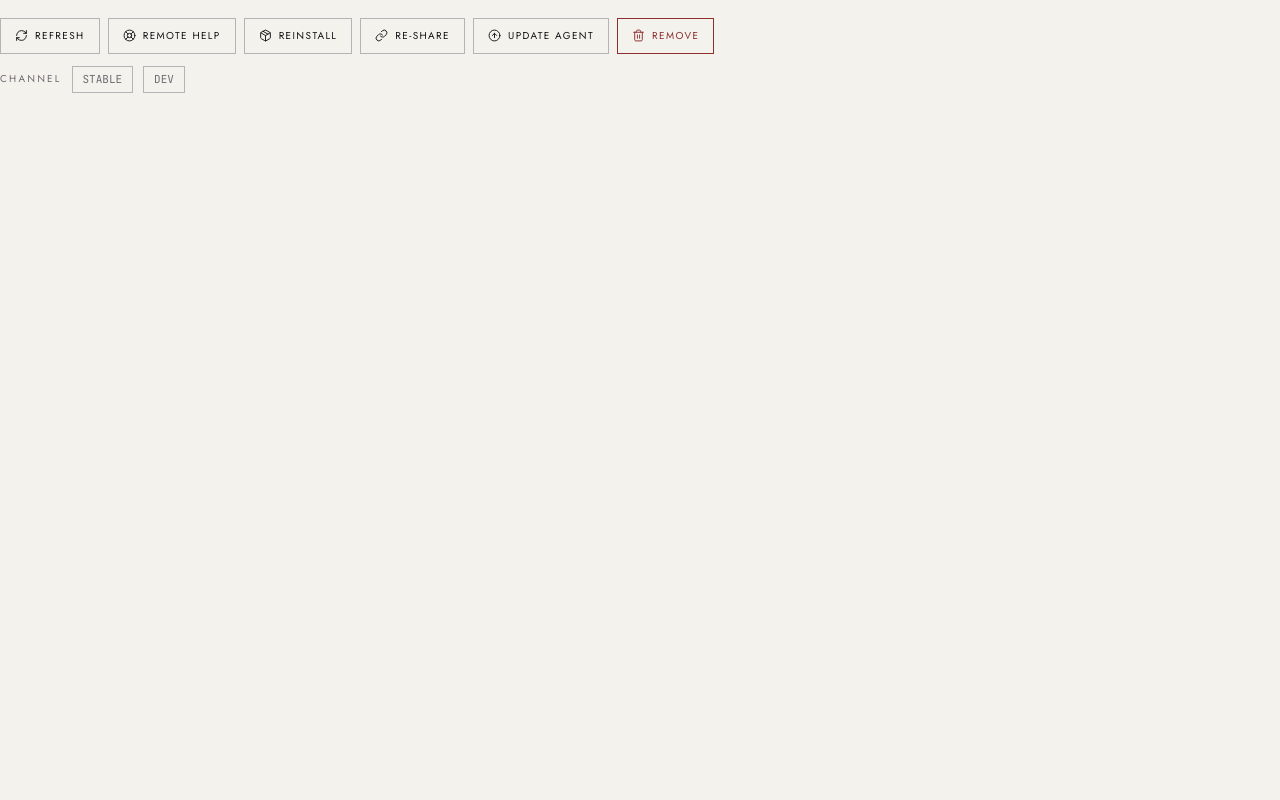
Test: ActionRow — RE-SHARE › shows the Linux one-liner alongside the URL when the response carries one
Click the button "RE-SHARE" at {"x": 413, "y": 36}, box [360, 18, 465, 54]
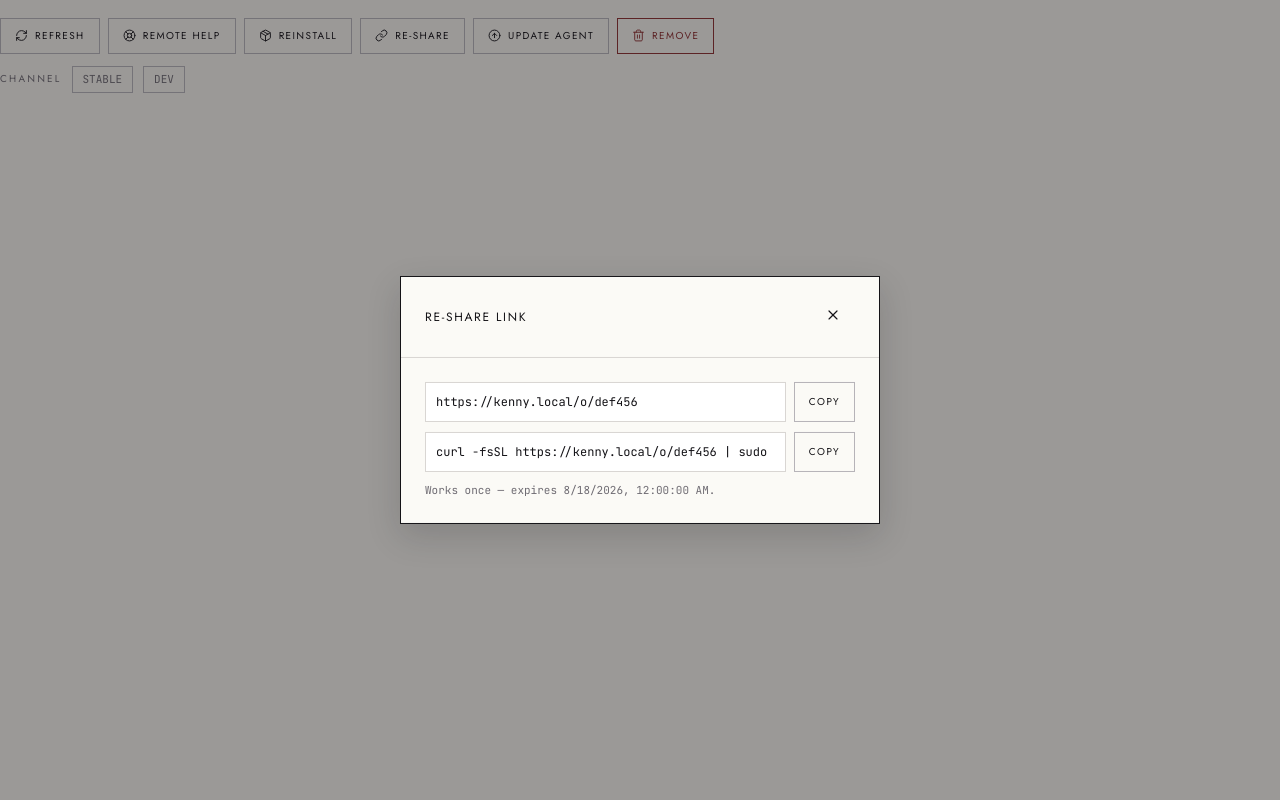
Expected: the field showing "curl -fsSL https://kenny.local/o/def456 | sudo sh" is shown, [425, 432, 786, 472]
